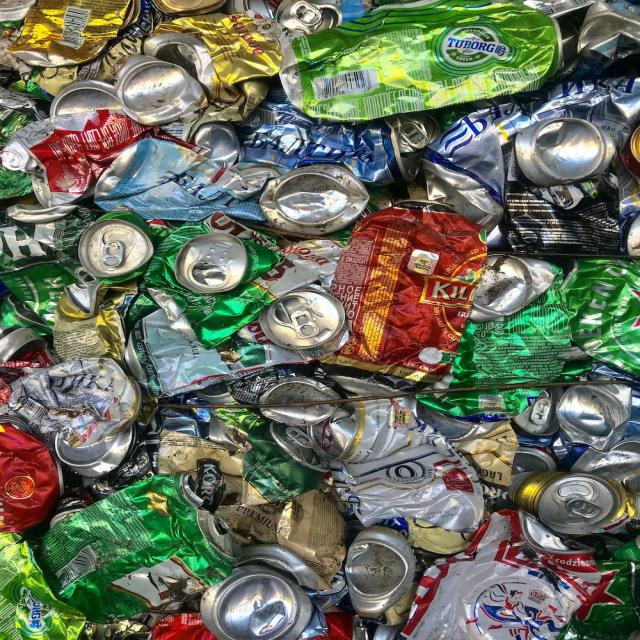metal: (19, 8, 624, 636)
